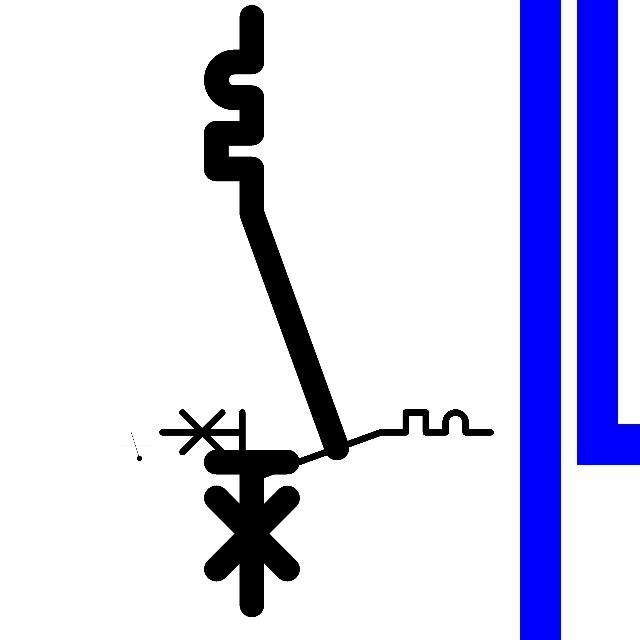interruptor_termomagnetico: (201, 2, 352, 620), (154, 404, 499, 488)
